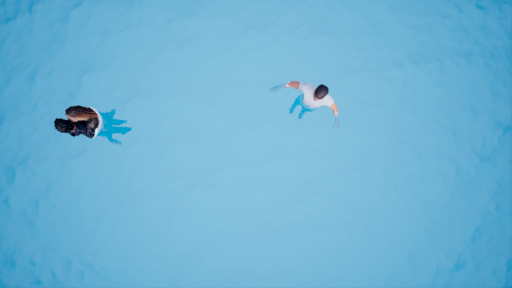person: (268, 76, 341, 131), (49, 103, 133, 149)
